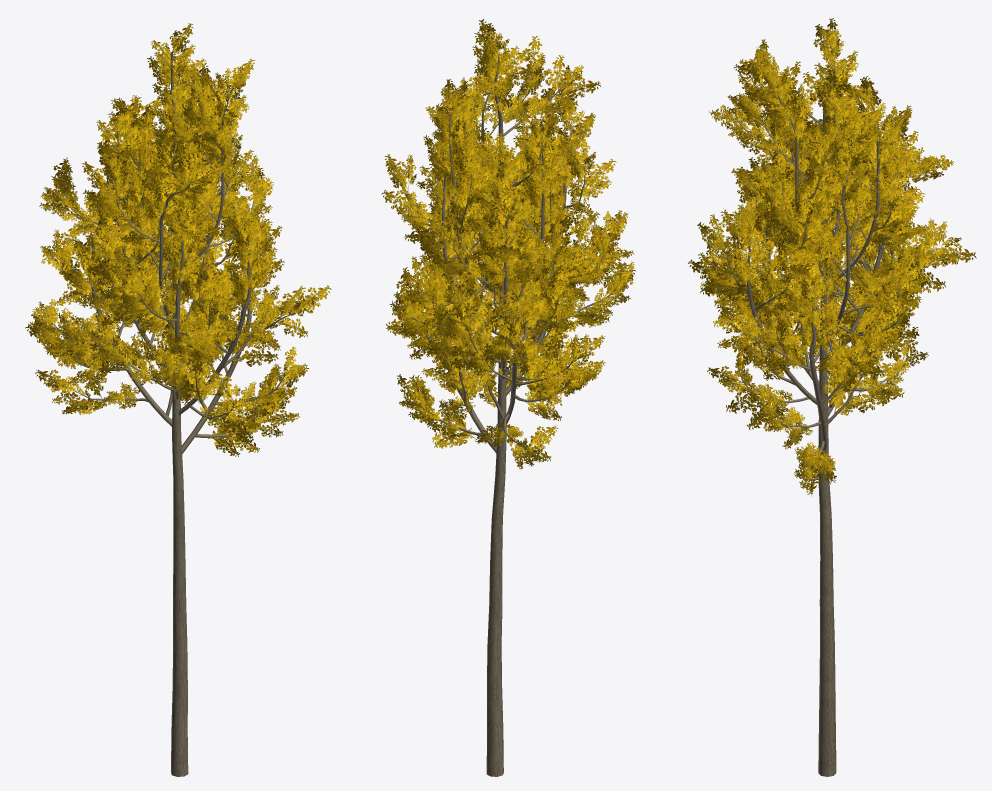
Rendered from aspen_large_03.glb.
3 renders of one model, left to right at view 1: azimuth 30°, elevation 25°; view 2: azimuth 150°, elevation 25°; view 3: azimuth 270°, elevation 25°, orthographic.
Parts seen in each view (by area): view 1: Tree; view 2: Tree; view 3: Tree.
Boxes of the visible parts, x1,y1,x2,y2 form: Tree: (25,23,331,776); Tree: (381,19,635,776); Tree: (688,18,976,776).
Bounding box in the file's own units: 36.8 × 103 × 36.78.
2 materials, 2 textured.
